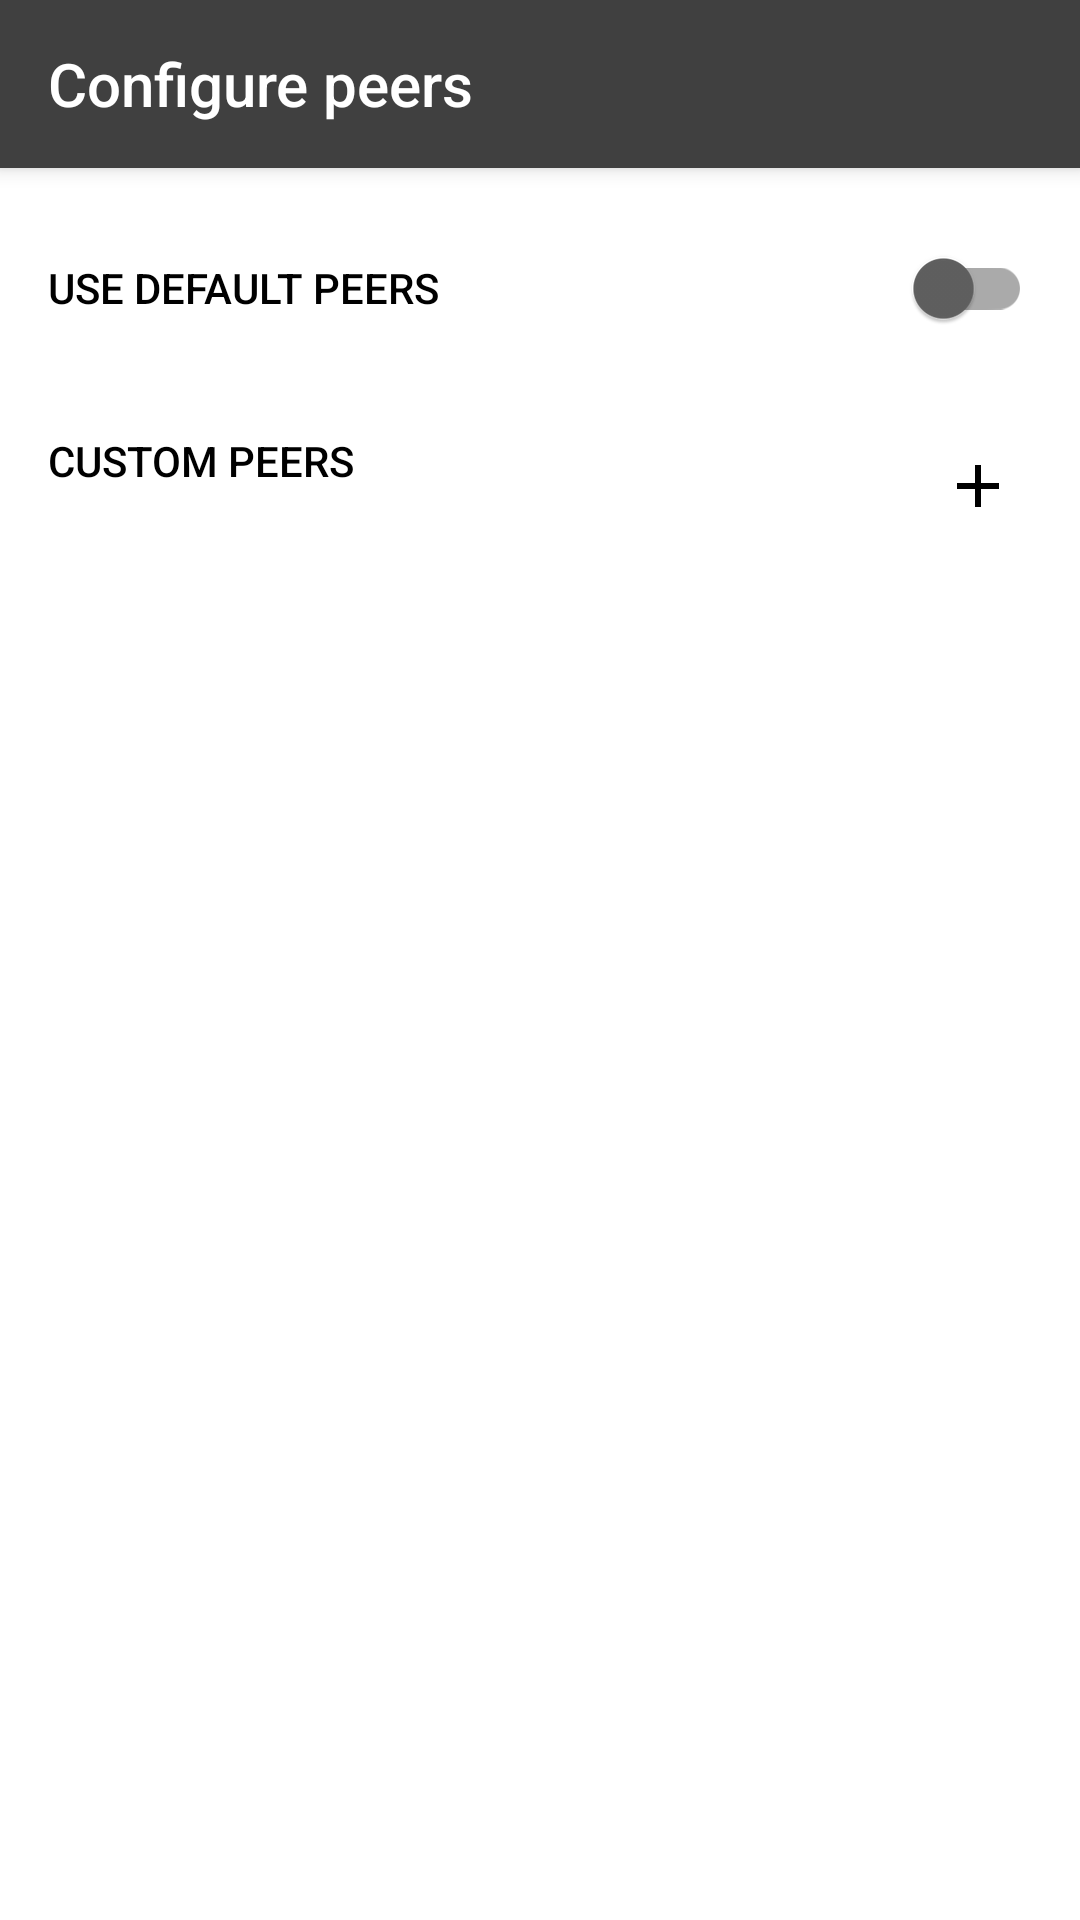

Named icons in this screenshot (1080x1920) and their centers, point (x, y):
Add peer: point (978, 486)
